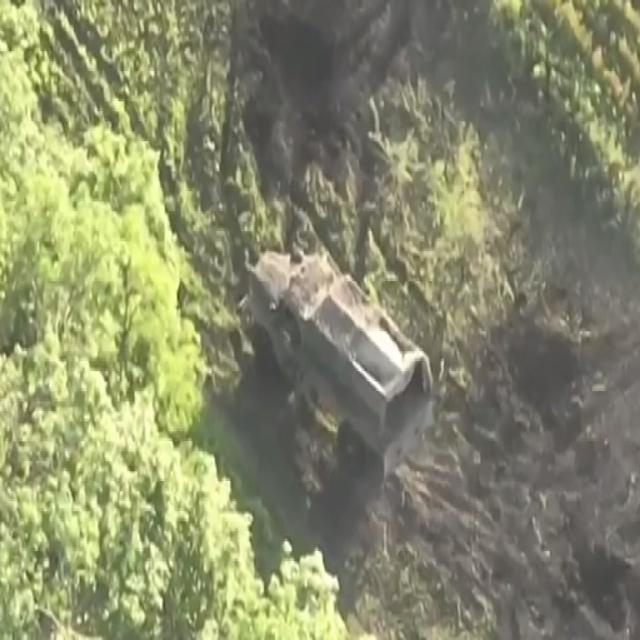TRUCK: (245, 242, 431, 505)
